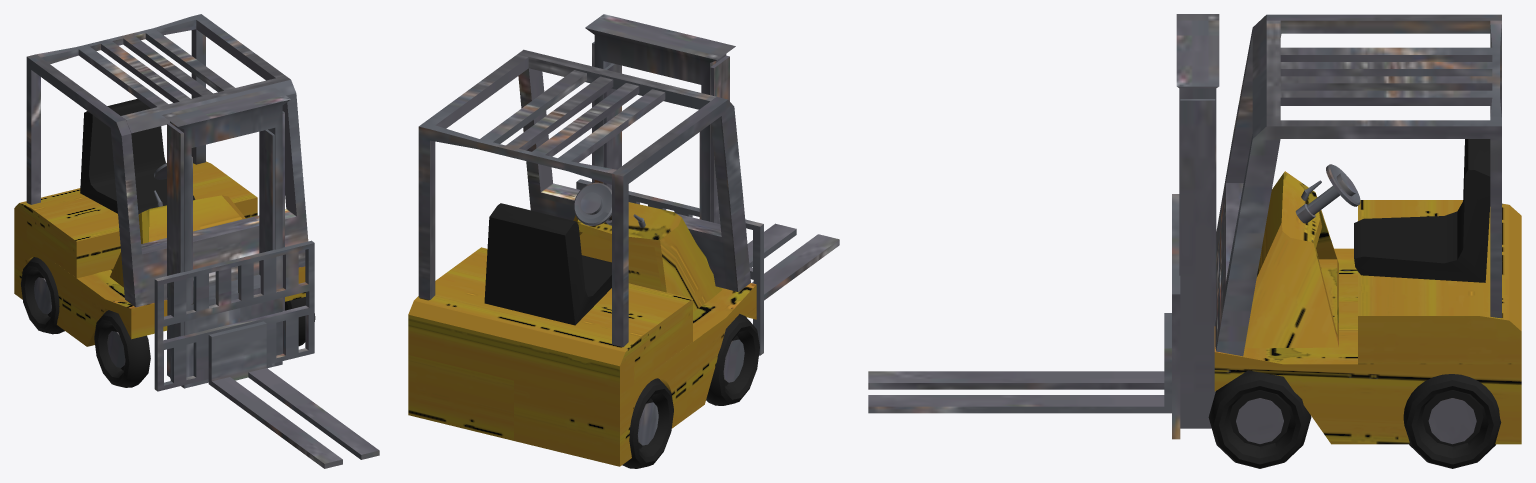
File: forklift.fbx
3 renders of one model, left to right at view 1: azimuth 30°, elevation 25°; view 2: azimuth 150°, elevation 25°; view 3: azimuth 270°, elevation 25°, orthographic. The views are drawn at different scales.
Parts seen in each view (by area): view 1: Torus.003; view 2: Torus.003; view 3: Torus.003.
Boxes of the visible parts, x1,y1,x2,y2 form: Torus.003: [14, 14, 379, 468]; Torus.003: [408, 14, 839, 468]; Torus.003: [868, 14, 1521, 468].
Size of the model in its own units: 215 by 300 by 491.
3 materials, 2 textured.
